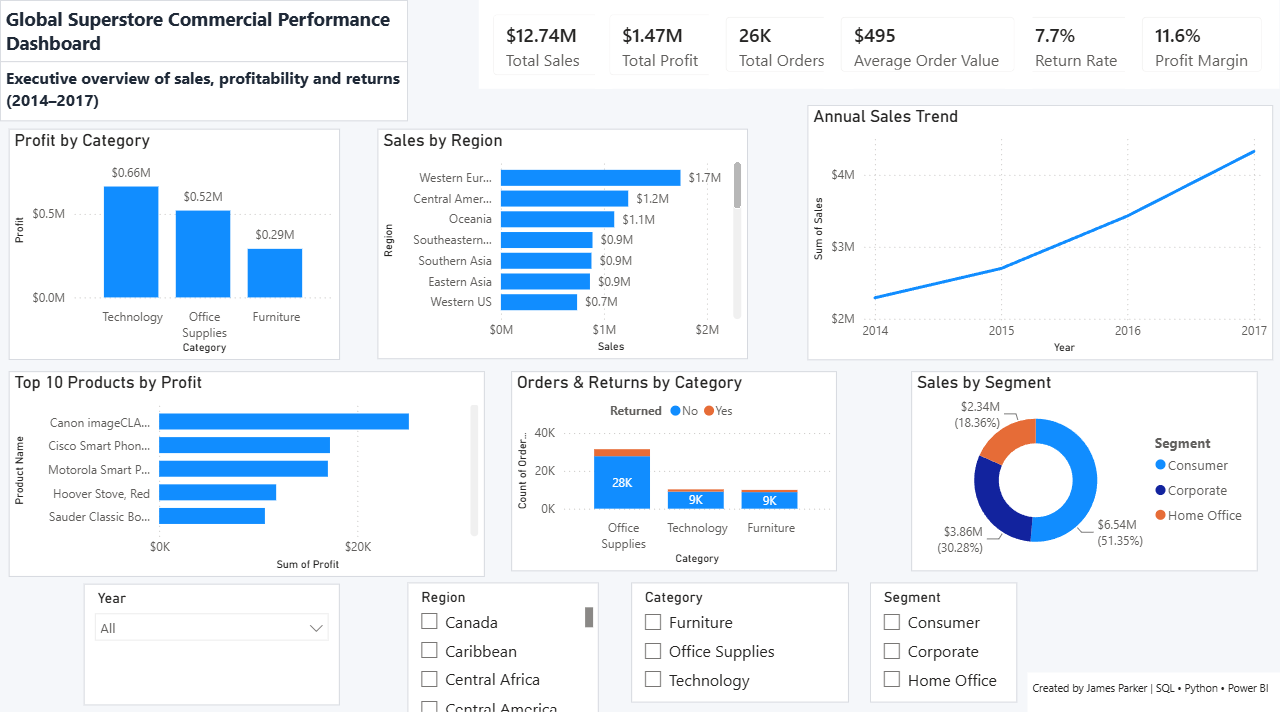

What the dashboard file says about the page in this screenshot:
{"tool":"powerbi","page":{"name":"Page 1","canvas":[1280,720],"ordinal":0},"visuals":[{"type":"clusteredColumnChart","title":"Profit by Category","fields":{"Category":["orders.Category"],"Y":["Sum(orders.Profit)"]},"box":[8.4,129.1,331.6,230.9],"z":0},{"type":"clusteredBarChart","title":"Sales by Region","fields":{"Category":["orders.Region"],"Y":["Sum(orders.Sales)"]},"box":[377.7,129.3,370.2,230.5],"z":1000},{"type":"columnChart","title":"Orders & Returns by Category","fields":{"Category":["orders.Category"],"Y":["CountNonNull(orders.Order ID)"],"Series":["orders.Returned"]},"box":[511.7,371.1,325.2,199.6],"z":2000},{"type":"donutChart","title":"Sales by Segment","fields":{"Category":["orders.Segment"],"Y":["Sum(orders.Sales)"]},"box":[910.9,371.1,346.8,199.6],"z":3000},{"type":"lineChart","title":"Annual Sales Trend","fields":{"Category":["orders.Order Date.Variation.Date Hierarchy.Year","orders.Order Date.Variation.Date Hierarchy.Quarter","orders.Order Date.Variation.Date Hierarchy.Month","orders.Order Date.Variation.Date Hierarchy.Day"],"Y":["Sum(orders.Sales)"]},"box":[806.9,105,465.8,254.9],"z":4000},{"type":"slicer","fields":{"Values":["orders.Region"]},"box":[407.7,582.9,191.2,136.8],"z":5000},{"type":"slicer","fields":{"Values":["orders.Category"]},"box":[630.7,582.9,217.4,120],"z":6000},{"type":"cardVisual","fields":{"Data":["orders.Return Rate"]},"box":[1004.7,0,145.3,89],"z":7000},{"type":"cardVisual","title":"Total Sales","fields":{"Data":["orders.Total Sales"]},"box":[478.5,0,133.3,89.2],"z":8000},{"type":"cardVisual","fields":{"Data":["orders.Total Profit"]},"box":[595,0,133.3,89.2],"z":9000},{"type":"cardVisual","fields":{"Data":["orders.Total Orders"]},"box":[709.4,0,144.8,89.2],"z":10000},{"type":"cardVisual","fields":{"Data":["orders.Profit Margin"]},"box":[1125.6,0,154.6,89],"z":11000},{"type":"cardVisual","fields":{"Data":["orders.Average Order Value"]},"box":[823.7,0,208.8,89.2],"z":12000},{"type":"clusteredBarChart","title":"Top 10 Products by Profit","fields":{"Category":["orders.Product Name"],"Y":["Sum(orders.Profit)"]},"box":[8.4,371.1,476.1,205.2],"z":13000},{"type":"slicer","fields":{"Values":["orders.Order Date.Variation.Date Hierarchy.Year"]},"box":[84.3,583.9,255.9,121.8],"z":14000},{"type":"textbox","box":[0,0,407.7,62.8],"z":15000},{"type":"textbox","box":[0,61.9,407.7,60],"z":16000},{"type":"slicer","fields":{"Values":["orders.Segment"]},"box":[869.7,582.9,147.1,120],"z":17000},{"type":"textbox","box":[1027.1,672,253,47.8],"z":18000}]}

Visuals, with their boxes in screenshot pixels (x1, y1, x2, y2), scaled from the page's 1280x720 canvas onto the 1280x712 screenshot:
"Profit by Category" clusteredColumnChart: x1=8 y1=128 x2=340 y2=356
"Sales by Region" clusteredBarChart: x1=378 y1=128 x2=748 y2=356
"Orders & Returns by Category" columnChart: x1=512 y1=367 x2=837 y2=564
"Sales by Segment" donutChart: x1=911 y1=367 x2=1258 y2=564
"Annual Sales Trend" lineChart: x1=807 y1=104 x2=1273 y2=356
slicer - orders.Region: x1=408 y1=576 x2=599 y2=711
slicer - orders.Category: x1=631 y1=576 x2=848 y2=695
cardVisual - orders.Return Rate: x1=1005 y1=0 x2=1150 y2=88
"Total Sales" cardVisual: x1=478 y1=0 x2=612 y2=88
cardVisual - orders.Total Profit: x1=595 y1=0 x2=728 y2=88
cardVisual - orders.Total Orders: x1=709 y1=0 x2=854 y2=88
cardVisual - orders.Profit Margin: x1=1126 y1=0 x2=1279 y2=88
cardVisual - orders.Average Order Value: x1=824 y1=0 x2=1032 y2=88
"Top 10 Products by Profit" clusteredBarChart: x1=8 y1=367 x2=484 y2=570
slicer - orders.Order Date.Variation.Date Hierarchy.Year: x1=84 y1=577 x2=340 y2=698
textbox: x1=0 y1=0 x2=408 y2=62
textbox: x1=0 y1=61 x2=408 y2=121
slicer - orders.Segment: x1=870 y1=576 x2=1017 y2=695
textbox: x1=1027 y1=665 x2=1279 y2=711
